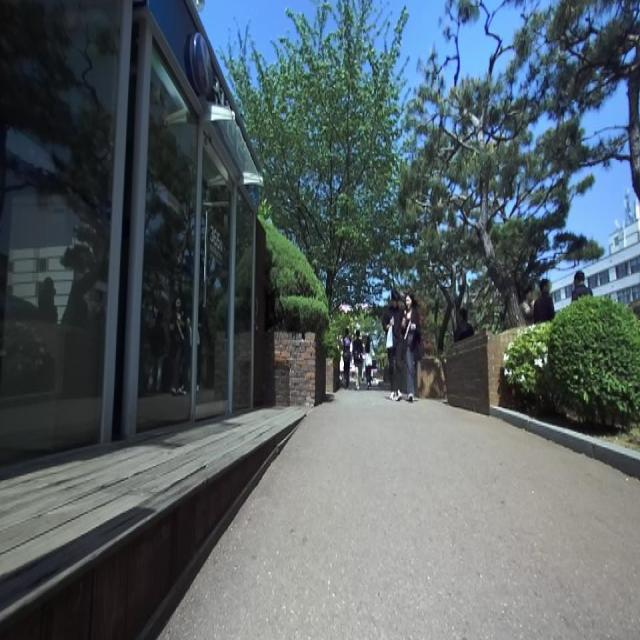sidewalk: (162, 389, 640, 639)
